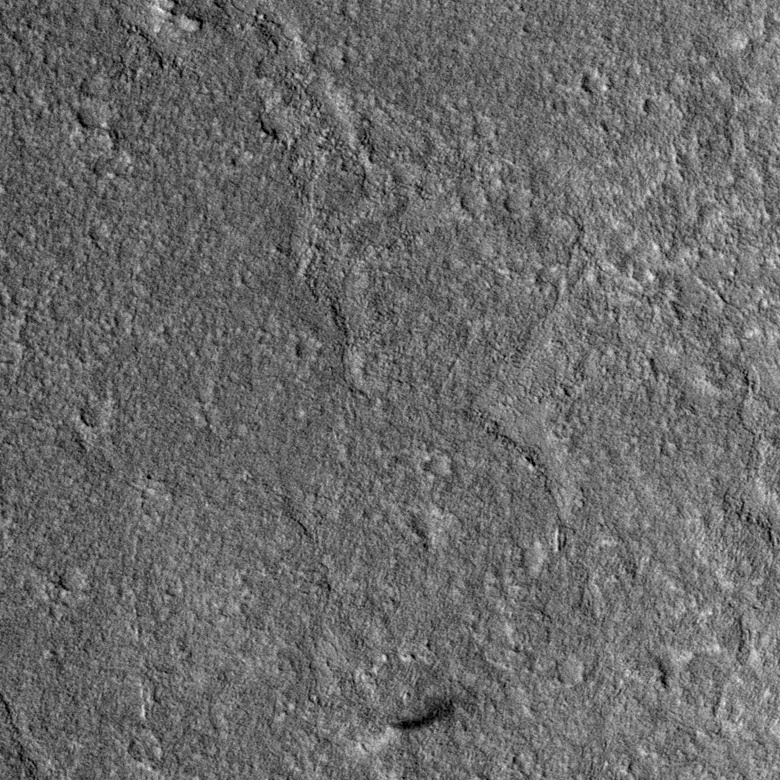dust_devil: (365, 694, 455, 753)
